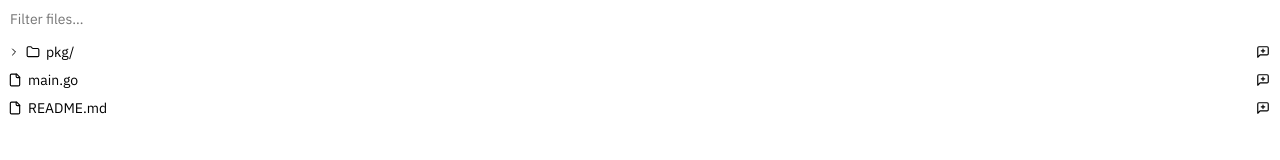
Test: FileTree › filters by query
In the field with test id "file-filter": (640, 19) [4,4,1276,34], type "main"
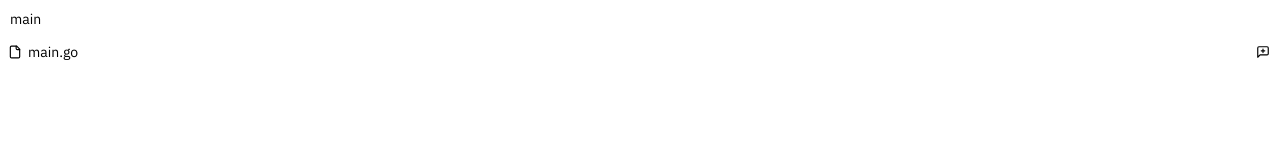
Expected: the button "main.go" is shown, [4,38,1246,66]
Now the button "README.md" is gone
